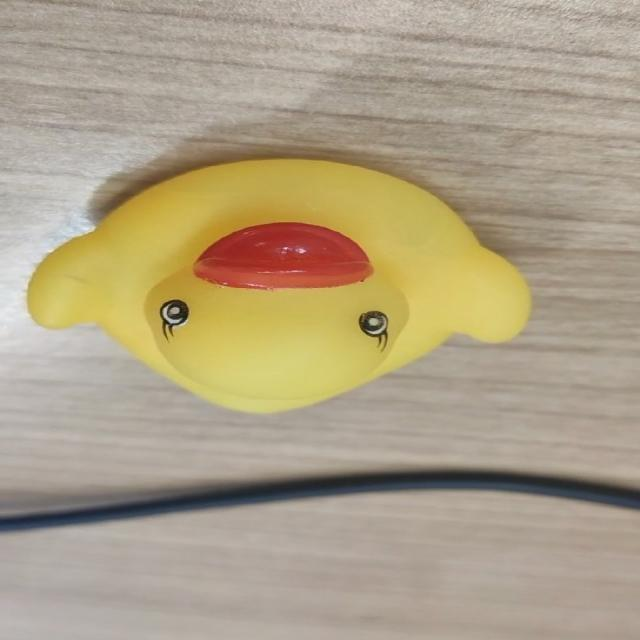rubber-duck: (27, 158, 528, 410)
